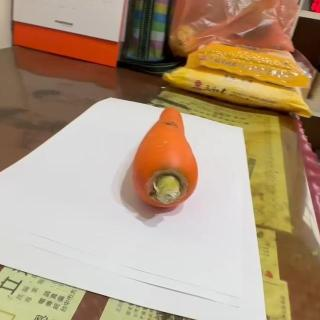carrot: (130, 105, 200, 209)
